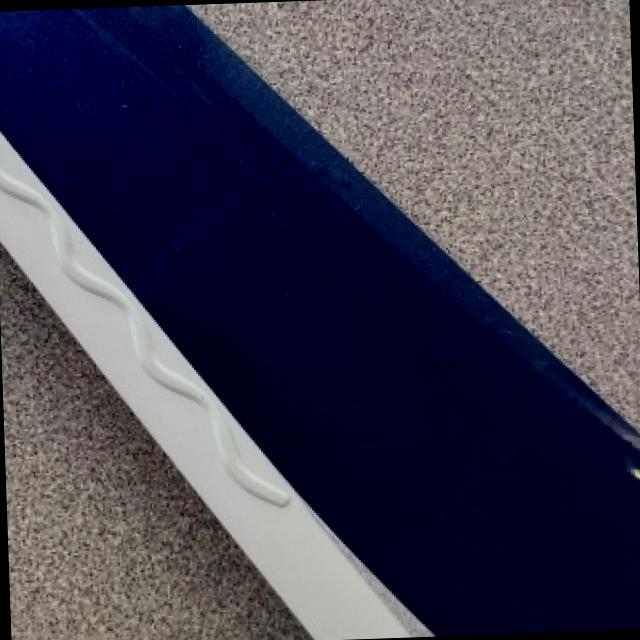healthy: (192, 0, 640, 424)
